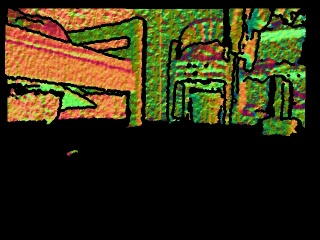station: (261, 76, 300, 137)
